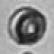correct: (2, 2, 53, 49)
